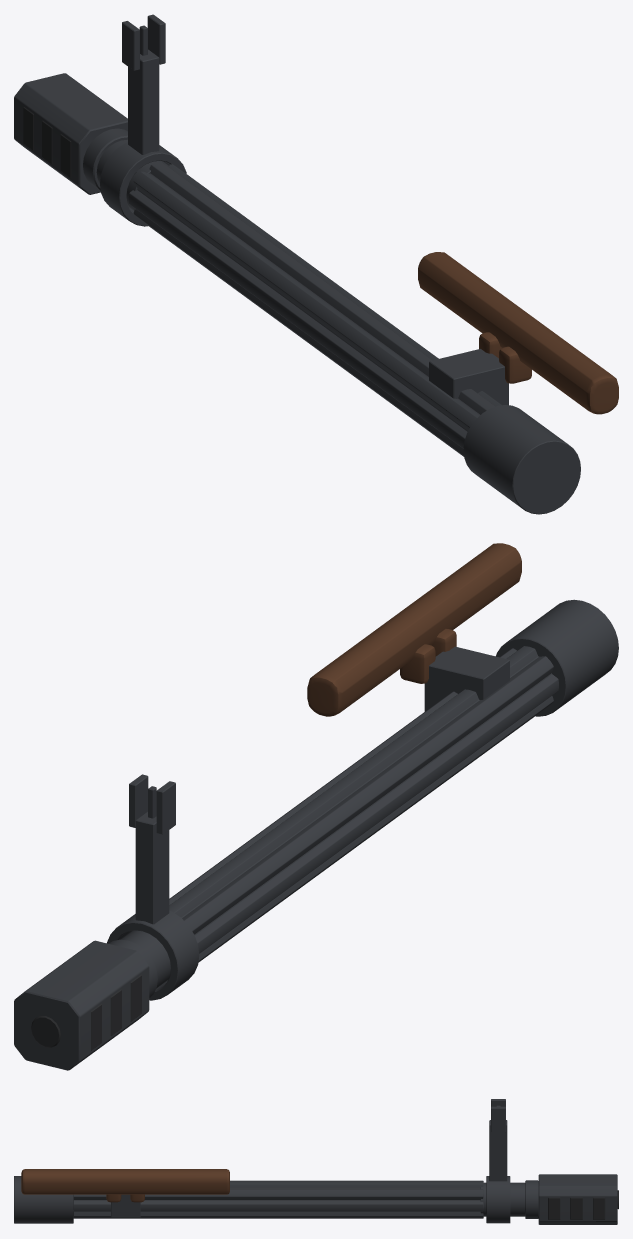
File: mod_anvil_short_barrel.glb
The picture shows the model from 3 angles, top to bottom: view 1: azimuth 30°, elevation 25°; view 2: azimuth 150°, elevation 25°; view 3: azimuth 270°, elevation 25°; orthographic projection. The views are drawn at different scales.
Visible parts, largest first — view 1: Barrel, BarrelHandle, MuzzleBrake; view 2: Barrel, BarrelHandle, MuzzleBrake; view 3: Barrel, BarrelHandle, MuzzleBrake.
Part boxes in pixels (x1,y1,x2,y2): Barrel: [96, 14, 580, 514]; BarrelHandle: [418, 252, 618, 414]; MuzzleBrake: [14, 73, 127, 194]; Barrel: [107, 599, 618, 1000]; BarrelHandle: [307, 543, 521, 716]; MuzzleBrake: [14, 939, 157, 1070]; Barrel: [14, 1099, 525, 1223]; BarrelHandle: [21, 1169, 229, 1202]; MuzzleBrake: [525, 1174, 618, 1224].
Size of the model in its own units: 0.0535 by 0.0872 by 0.4059.
